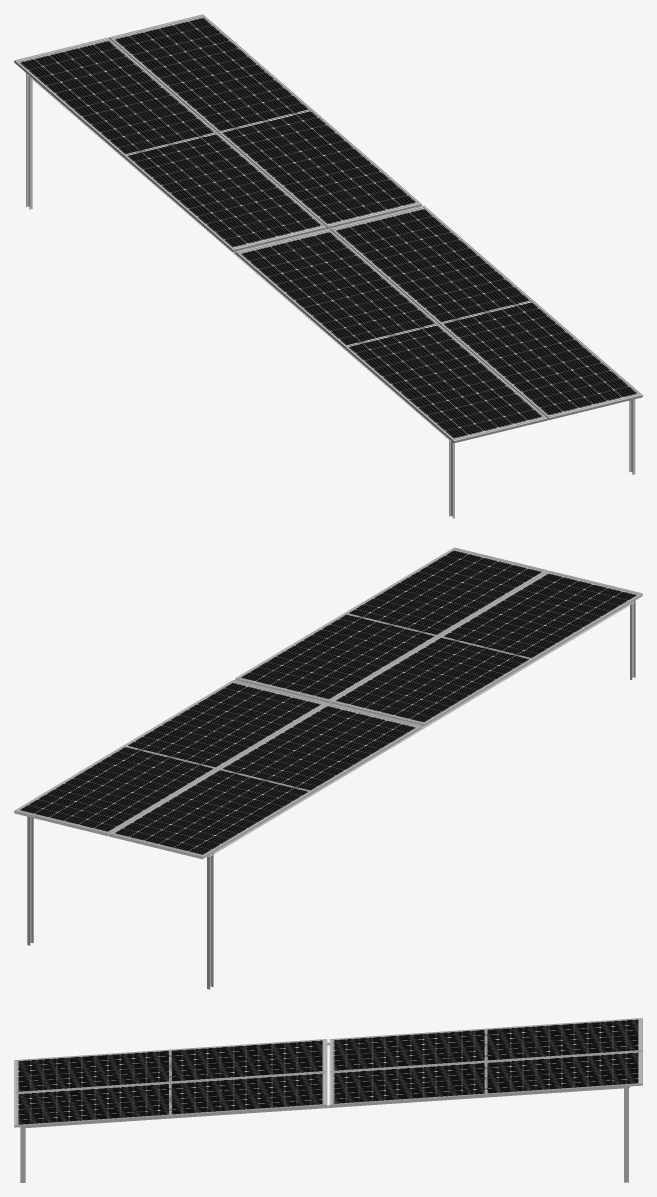
The picture shows the model from 3 angles, top to bottom: view 1: azimuth 30°, elevation 25°; view 2: azimuth 150°, elevation 25°; view 3: azimuth 270°, elevation 25°; orthographic projection. The views are drawn at different scales.
Visible parts, largest first — view 1: 2KW SOLARPANEL; view 2: 2KW SOLARPANEL; view 3: 2KW SOLARPANEL.
Part boxes in pixels (left/top/right/bottom): 2KW SOLARPANEL: left=14, top=14, right=642, bottom=518; 2KW SOLARPANEL: left=14, top=547, right=642, bottom=989; 2KW SOLARPANEL: left=14, top=1018, right=642, bottom=1182.
Bounding box in the file's own units: 0.4496 × 0.3201 × 1.82.
1 material, 1 textured.
